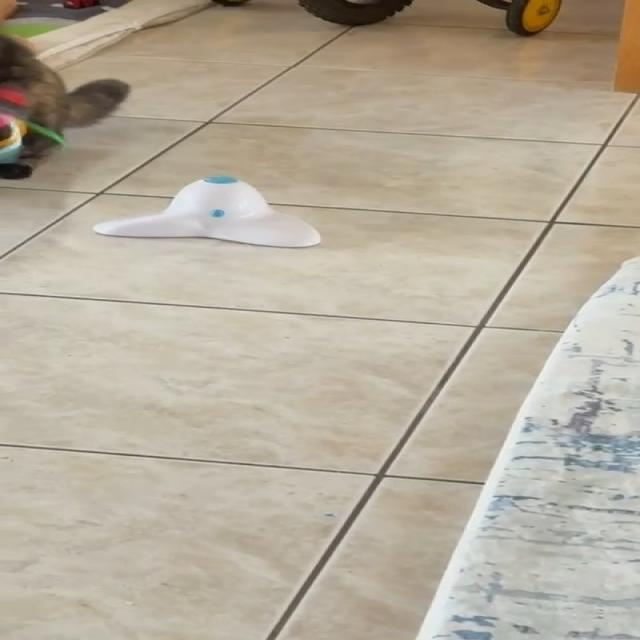authorized: (0, 32, 131, 179)
